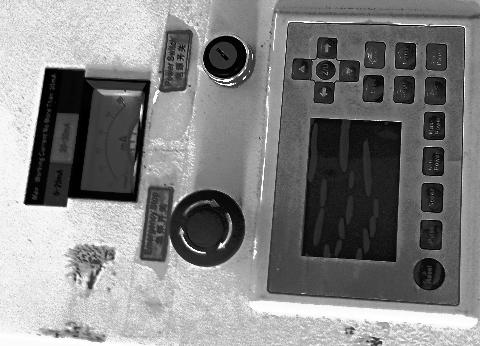Amp_Meter: (78, 80, 144, 195)
Display: (301, 119, 401, 262)
Down_button: (339, 61, 359, 82)
Emergency_Stop: (170, 190, 245, 267)
Enter_button: (364, 42, 385, 68)
Esc_button: (363, 75, 384, 103)
File_button: (425, 78, 446, 105)
Frame_button: (395, 43, 416, 69)
Left_button: (314, 82, 335, 104)
Max-Power_button: (424, 112, 445, 140)
Min-Power_button: (423, 147, 444, 176)
Origin_button: (393, 76, 415, 104)
Power_switch: (203, 36, 254, 87)
Pulse_button: (420, 220, 442, 250)
Reset_button: (414, 259, 445, 291)
Right_button: (317, 38, 337, 59)
Speed_button: (421, 183, 443, 213)
Start-Pause_button: (426, 44, 447, 71)
Up_button: (291, 59, 311, 80)
Z_U_button: (316, 61, 335, 80)
